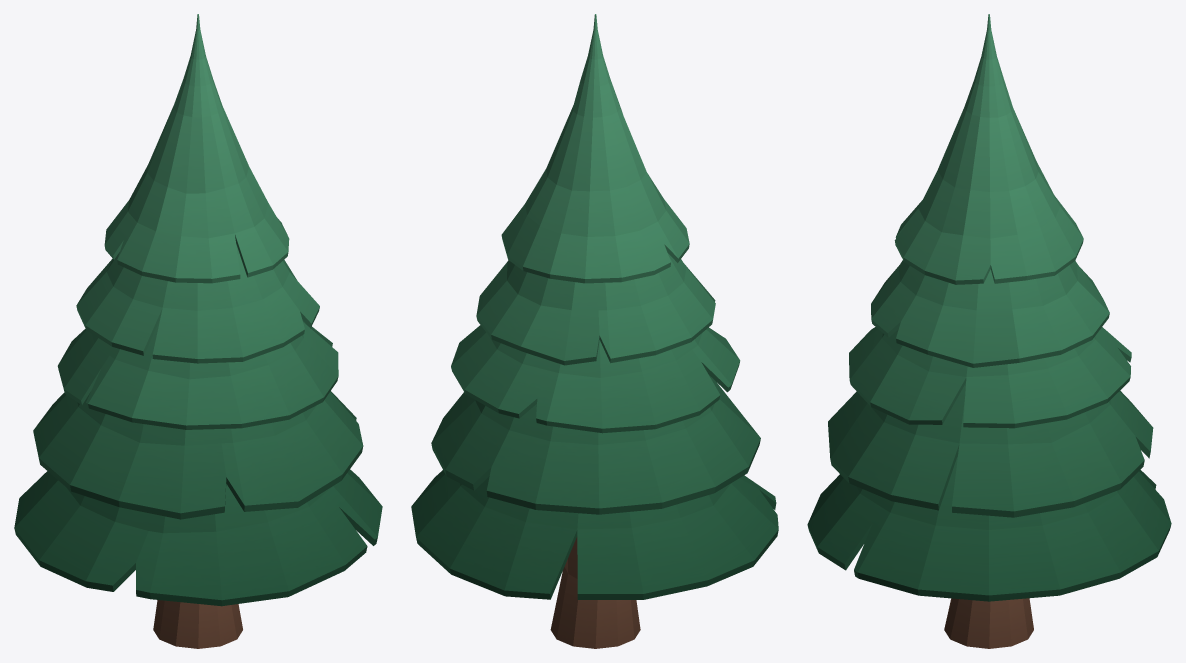
Rendered from drzewo1.fbx.
The picture shows the model from 3 angles, left to right: view 1: azimuth 30°, elevation 25°; view 2: azimuth 150°, elevation 25°; view 3: azimuth 270°, elevation 25°; orthographic projection.
Parts seen in each view (by area): view 1: drzewo1, Circle.012; view 2: drzewo1, Circle.012; view 3: drzewo1, Circle.012.
Boxes of the visible parts, x1=… form: drzewo1: x1=14, y1=14, x2=382, y2=606; Circle.012: x1=153, y1=600, x2=242, y2=648; drzewo1: x1=411, y1=14, x2=778, y2=599; Circle.012: x1=550, y1=536, x2=640, y2=648; drzewo1: x1=807, y1=14, x2=1171, y2=601; Circle.012: x1=944, y1=598, x2=1033, y2=648.
Size of the model in its own units: 463 by 851 by 456.
